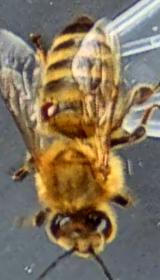varroa_mite: (32, 92, 64, 136)
